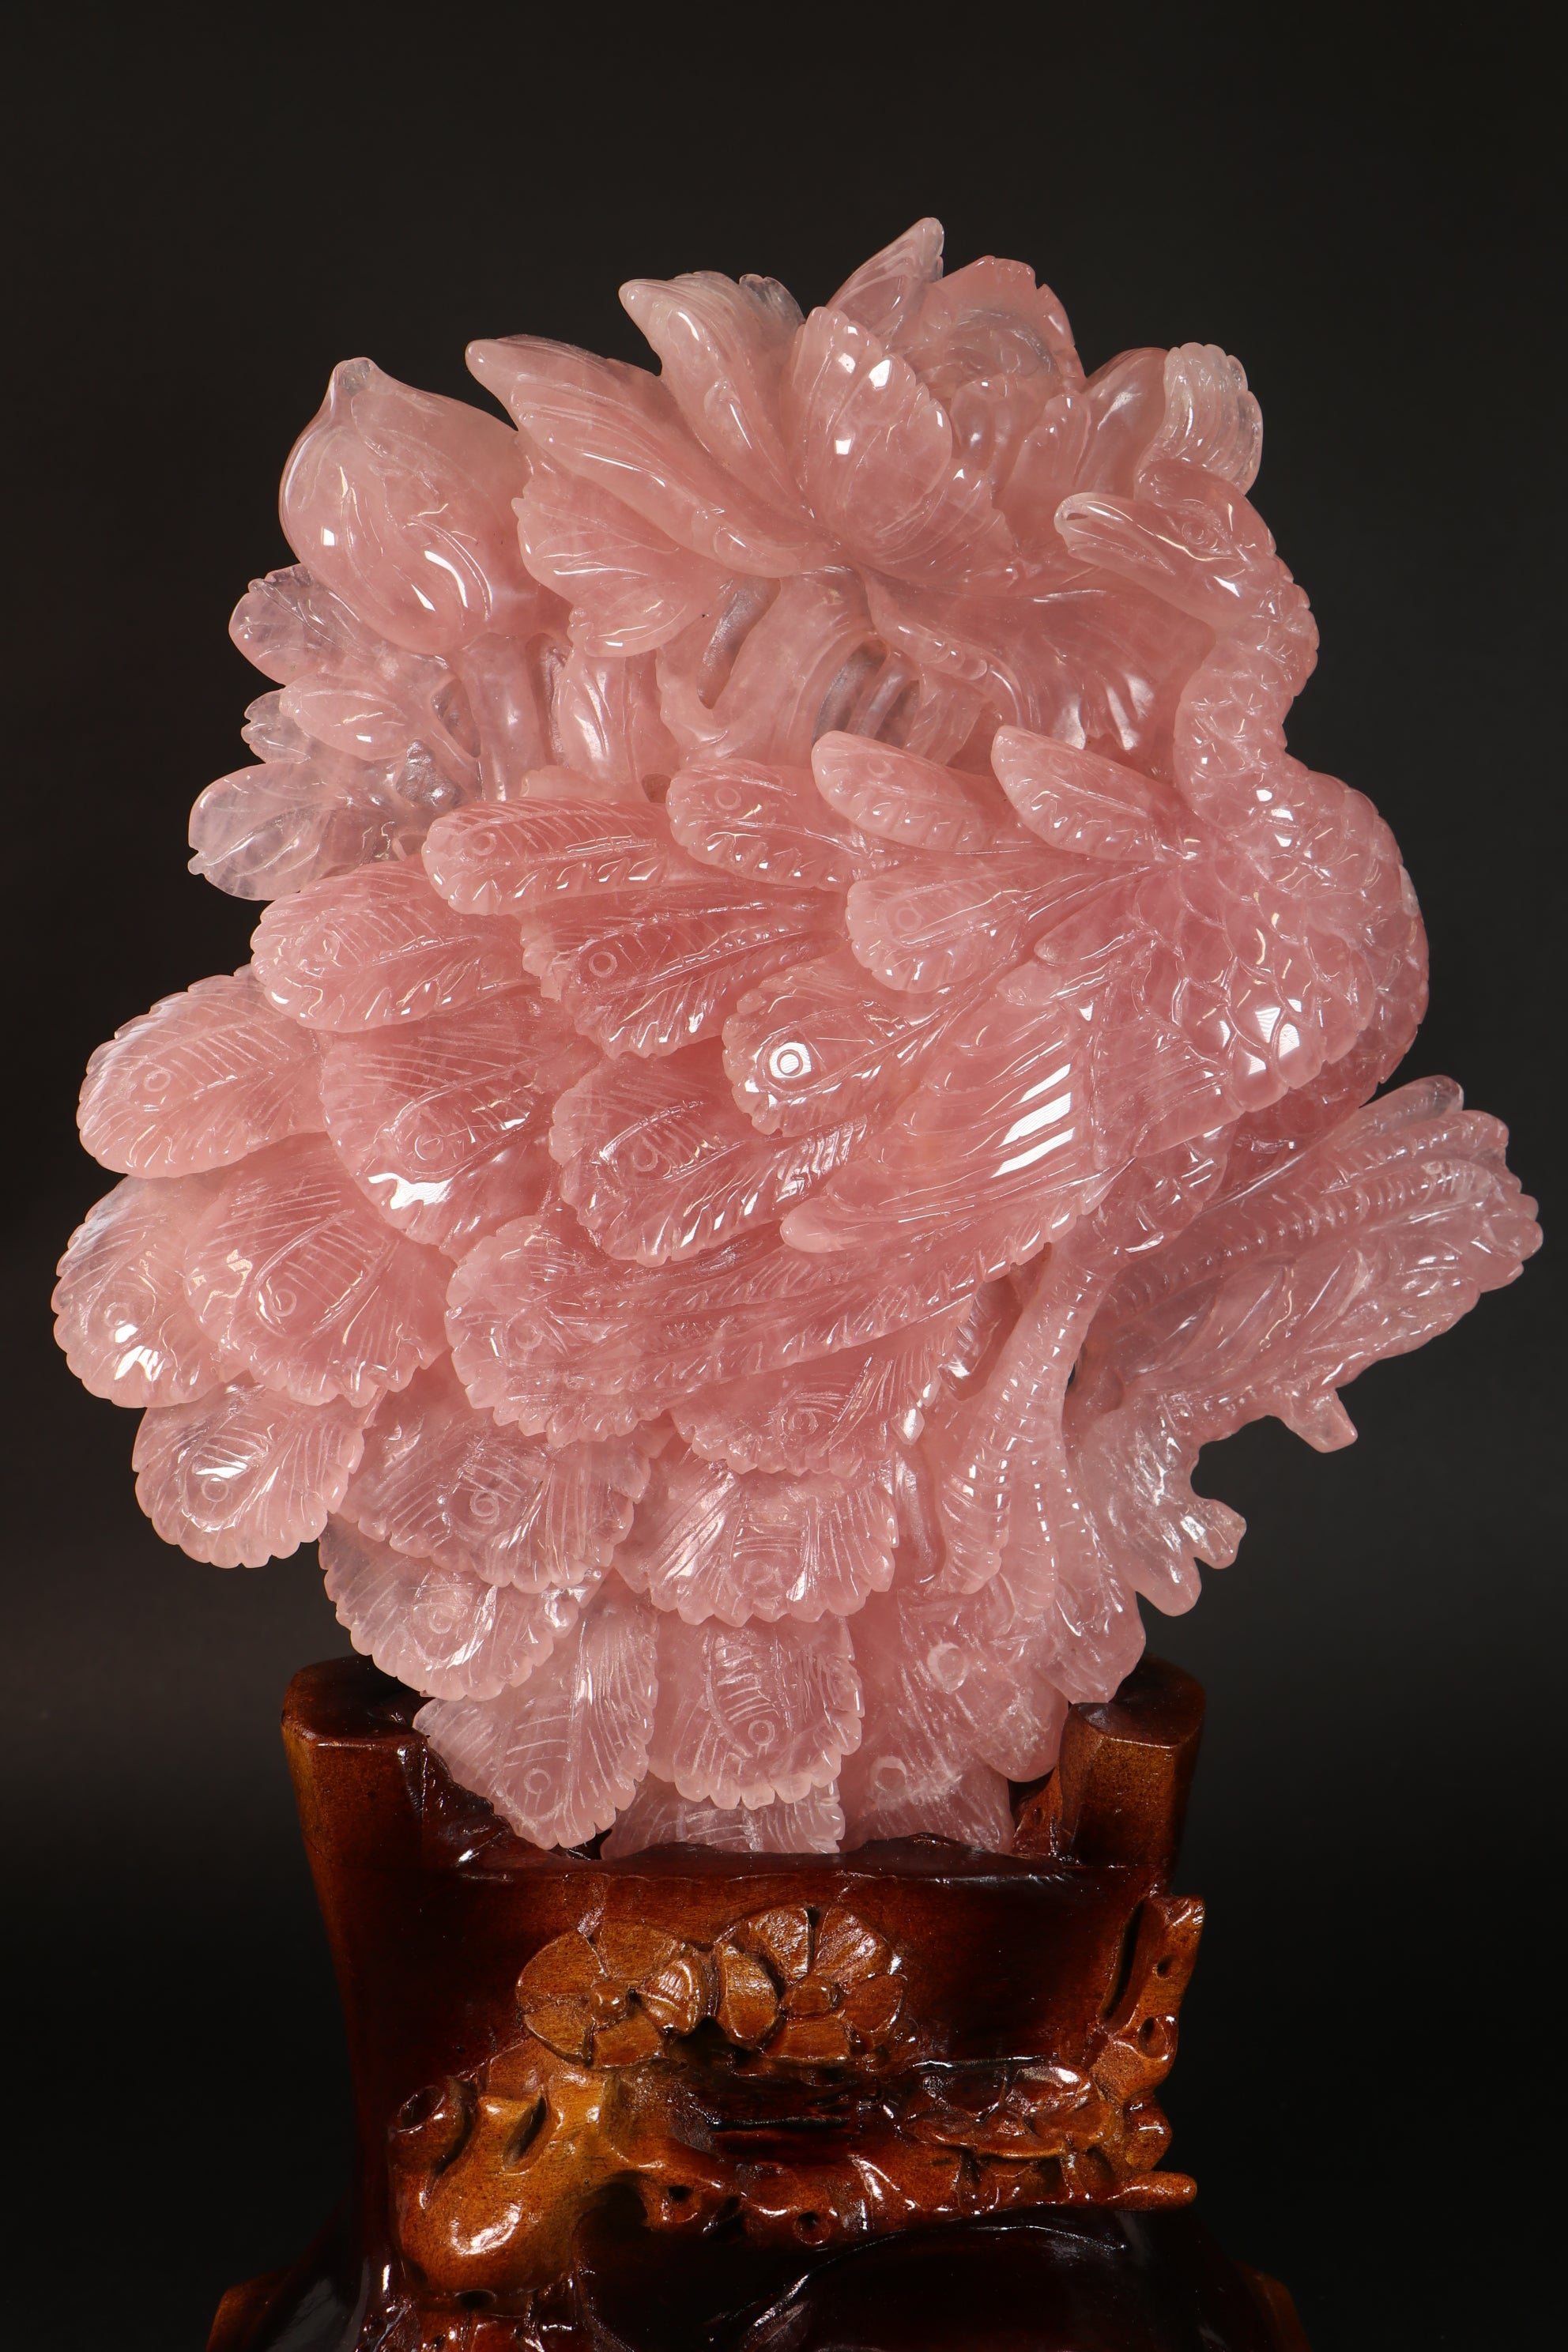Rose_Quartz: (44, 219, 1540, 1732)
